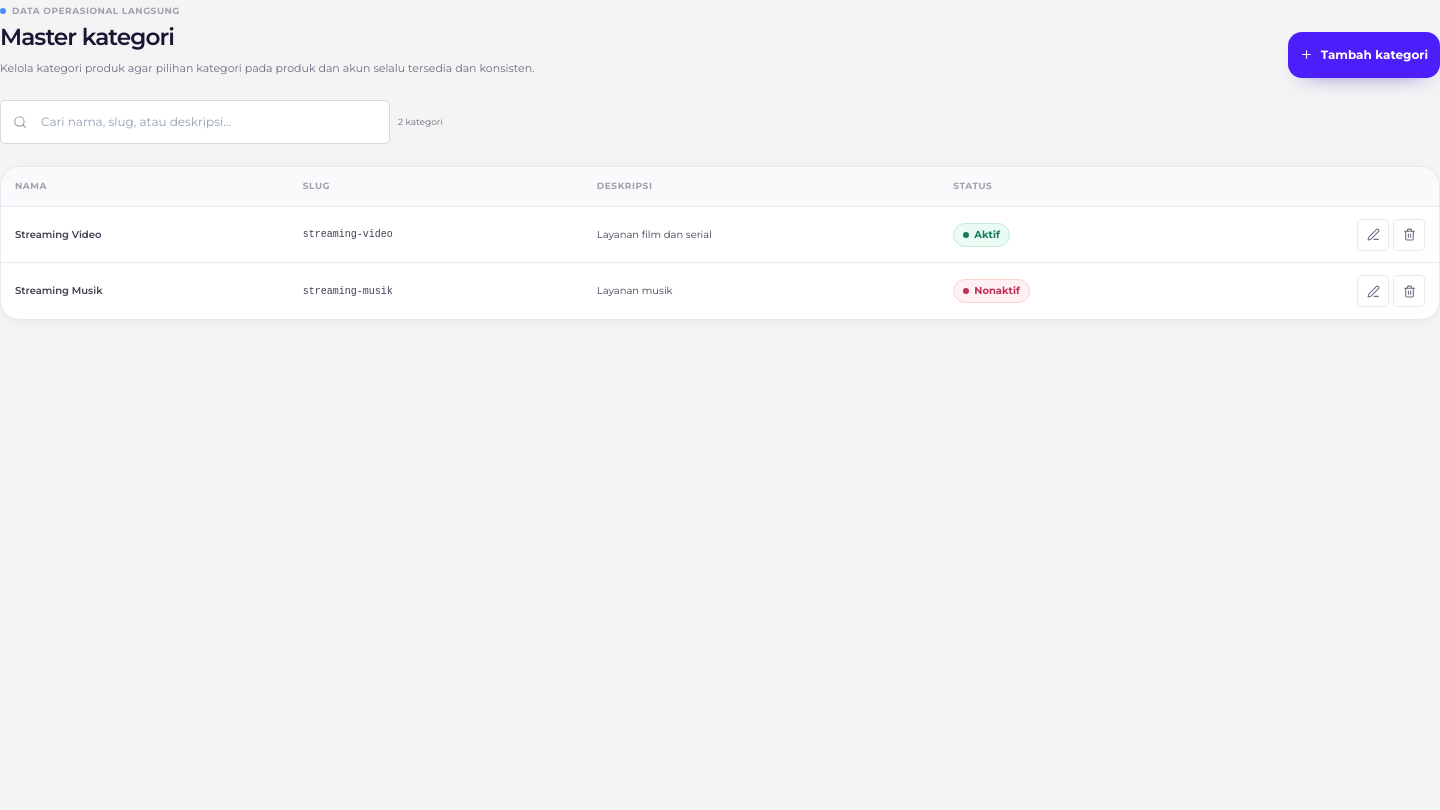
master kategori (NEC-131) › menampilkan pesan server saat kategori gagal dihapus karena masih dipakai
expect the text "Streaming Video" is shown: met, box [1,207,289,263]
What coordinates should you click on to do the following:
click the button named "Hapus Streaming Video"
I would click on:
 (1409, 235)
Its box is [1393,219,1425,251].
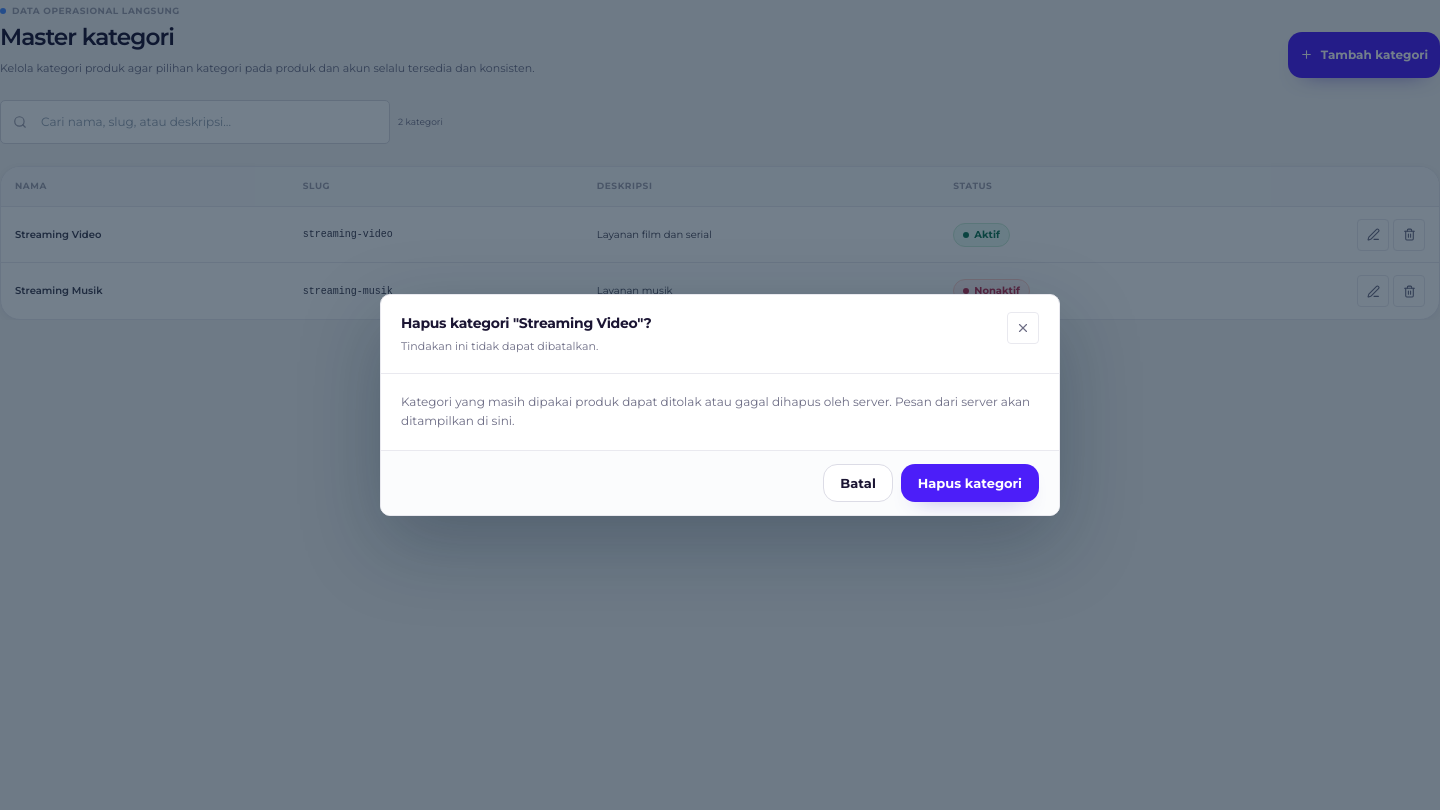
What coordinates should you click on to do the following:
click the button "Hapus kategori"
I would click on:
 (970, 483)
Its box is [901,464,1039,502].
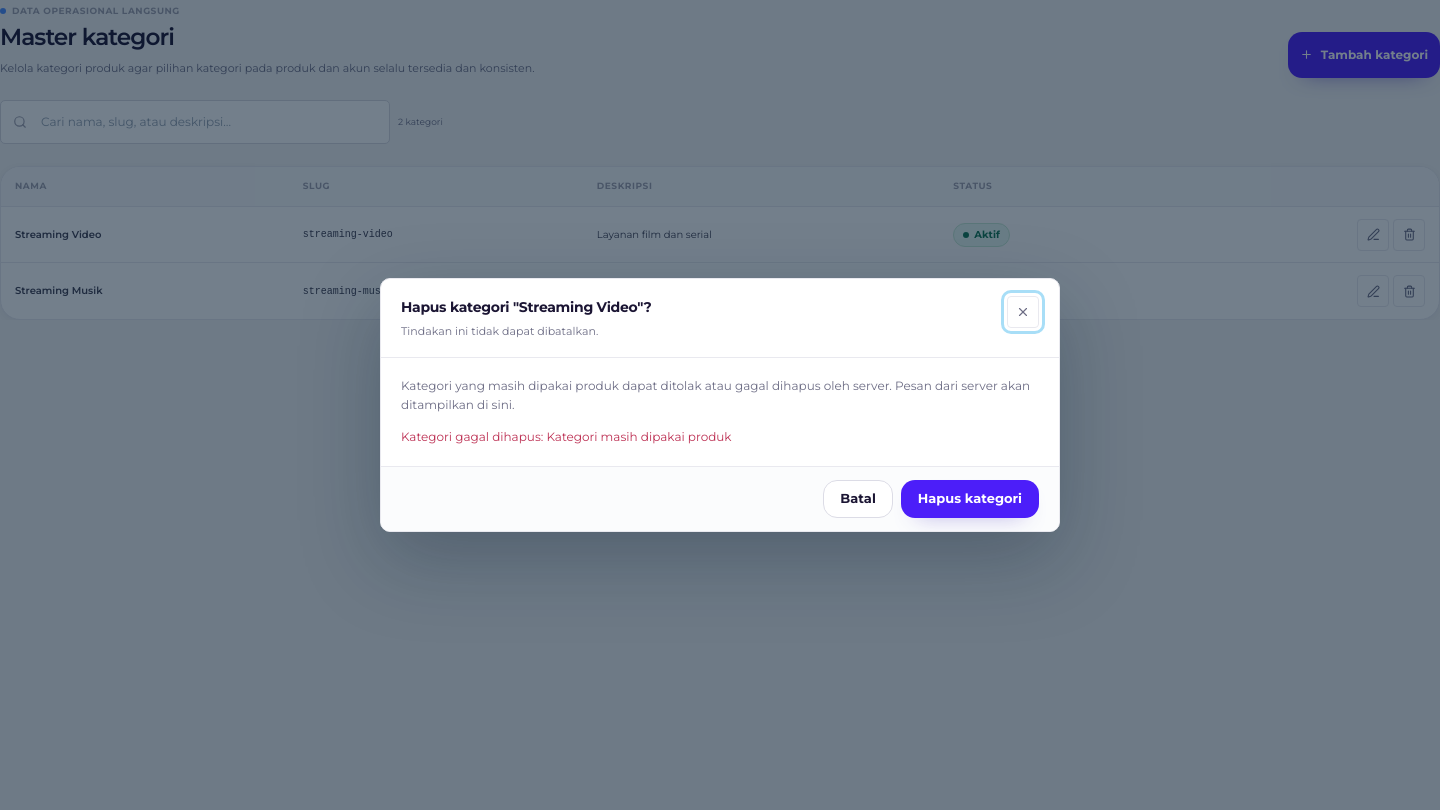
expect the dialog is shown: met, box [380,278,1060,532]
expect the text "Kategori gagal dihapus: Kategori masih dipakai produk" is shown: met, box [401,429,732,444]
